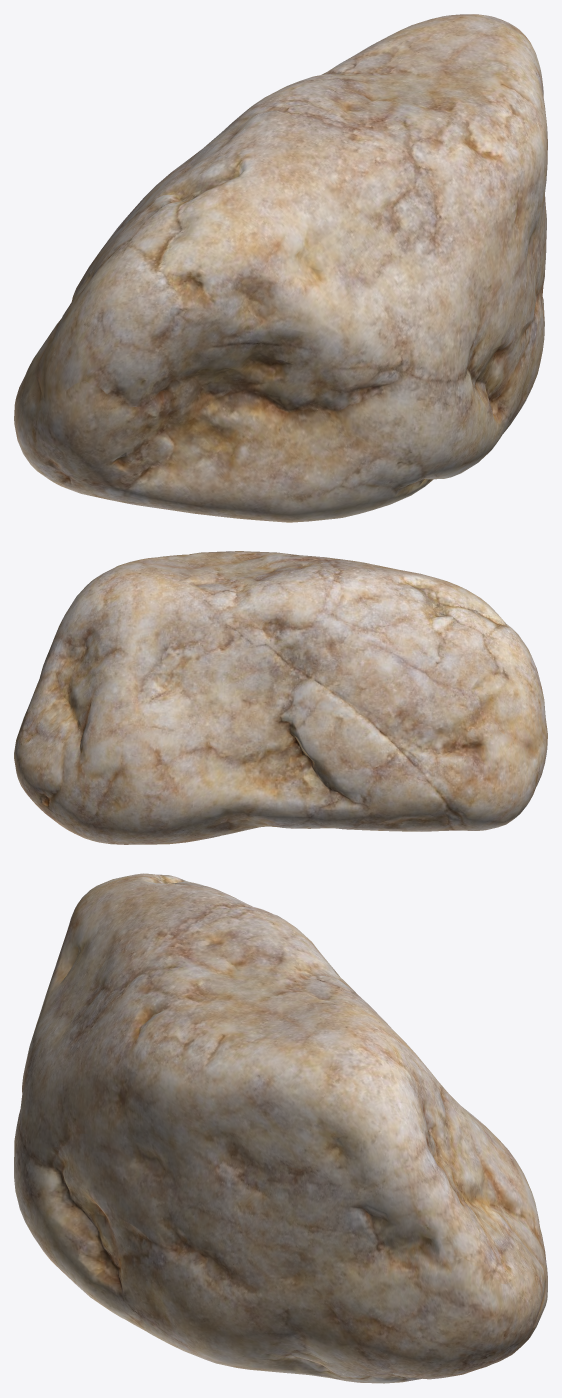
The picture shows the model from 3 angles, top to bottom: view 1: azimuth 30°, elevation 25°; view 2: azimuth 150°, elevation 25°; view 3: azimuth 270°, elevation 25°; orthographic projection. The views are drawn at different scales.
Parts seen in each view (by area): view 1: rock-005; view 2: rock-005; view 3: rock-005.
Part boxes in pixels (box(x1,y1,x2,y2)): rock-005: box(14, 14, 547, 522); rock-005: box(14, 551, 547, 844); rock-005: box(14, 873, 547, 1383).
Size of the model in its own units: 2 by 1.16 by 1.52.
Materials: 1 (1 with a texture image).
